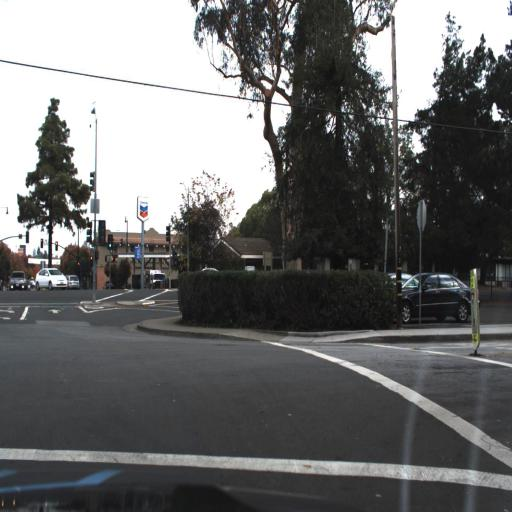car: (396, 268, 481, 329), (381, 269, 425, 302), (33, 263, 68, 293), (34, 264, 69, 293), (6, 267, 30, 295)
